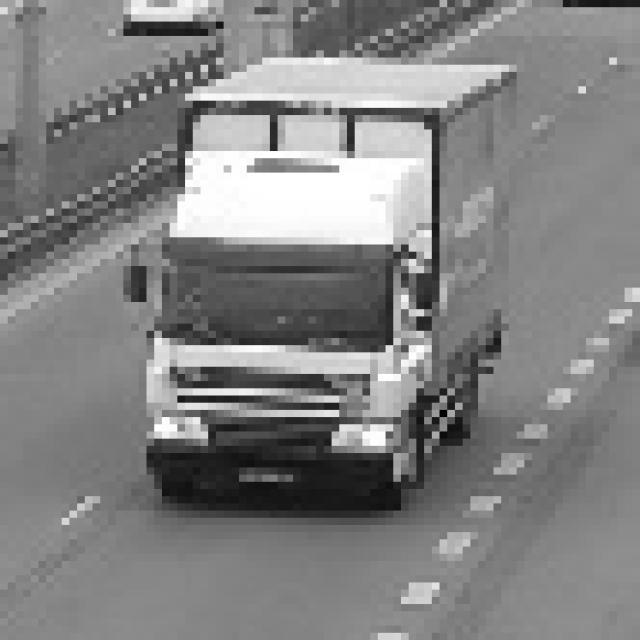truck: (116, 44, 510, 504)
